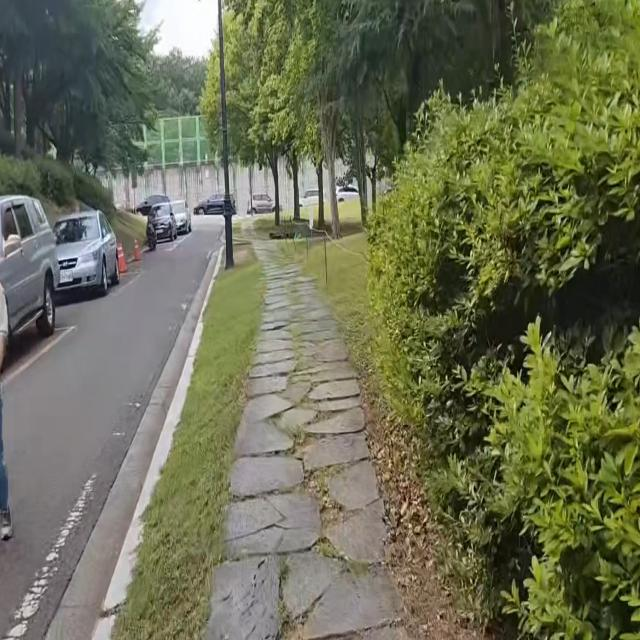obstacle: (0, 184, 126, 363), (0, 261, 21, 575), (216, 0, 237, 274), (149, 197, 197, 249)
road: (0, 220, 225, 640)
sidewalk: (96, 242, 437, 640)
